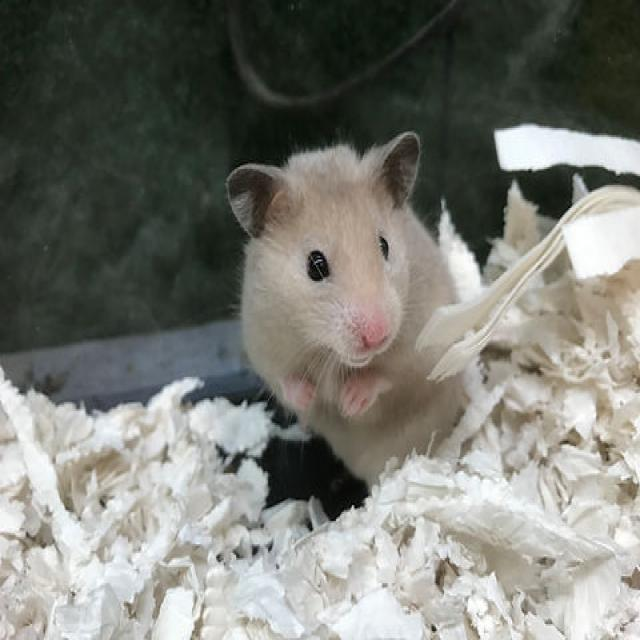hamster: (219, 127, 478, 494)
